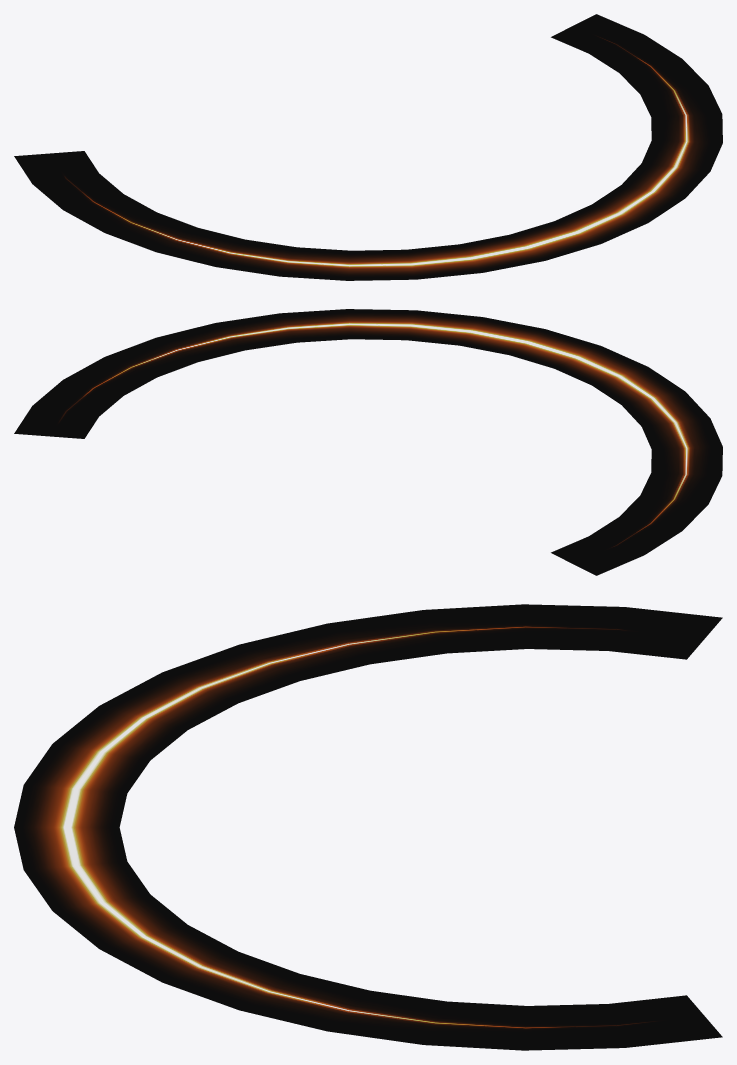
Rendered from Arc_020cm220d.fbx.
The picture shows the model from 3 angles, top to bottom: view 1: azimuth 30°, elevation 25°; view 2: azimuth 150°, elevation 25°; view 3: azimuth 270°, elevation 25°; orthographic projection. The views are drawn at different scales.
Visible parts, largest first — view 1: Arc_020cm220d; view 2: Arc_020cm220d; view 3: Arc_020cm220d.
Boxes of the visible parts, left/top/right/bottom form: Arc_020cm220d: left=14, top=14, right=722, bottom=280; Arc_020cm220d: left=14, top=309, right=722, bottom=575; Arc_020cm220d: left=14, top=604, right=722, bottom=1050.
Bounding box in the file's own units: 200 × 2.19e-05 × 134.
